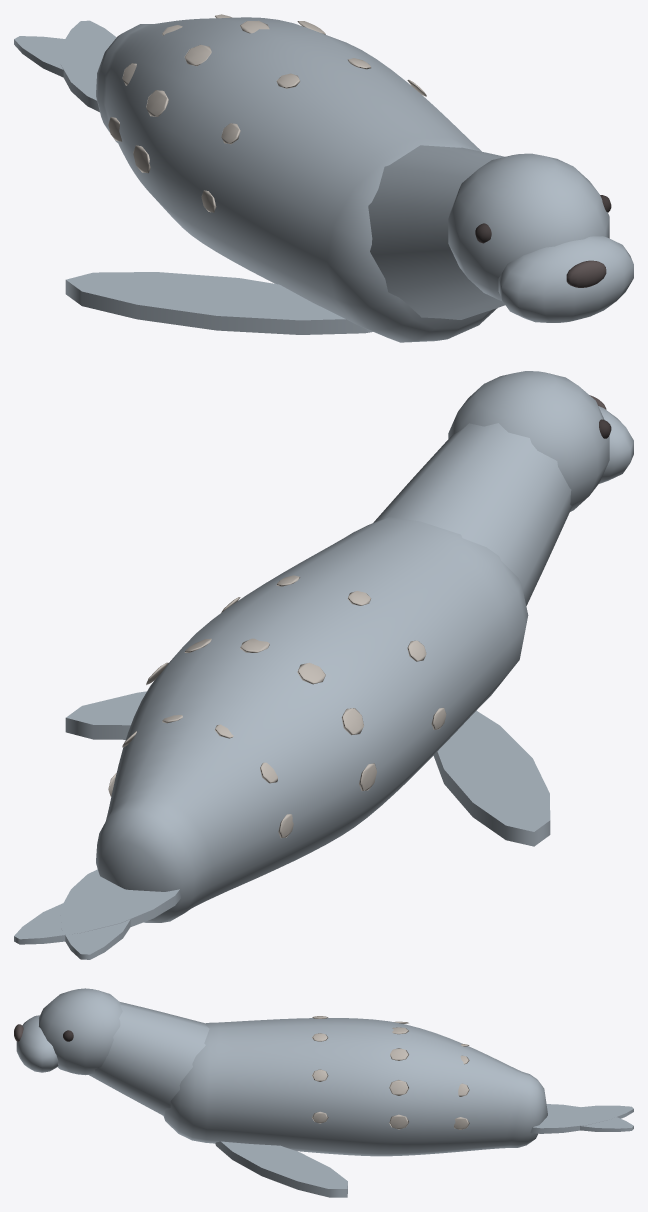
Rendered from polar-tundra-and-alpine-fauna-weddell-seal-b3b439e6__6073.glb.
3 renders of one model, top to bottom at view 1: azimuth 30°, elevation 25°; view 2: azimuth 150°, elevation 25°; view 3: azimuth 270°, elevation 25°, orthographic. The views are drawn at different scales.
Parts seen in each view (by area): view 1: weddell-seal; view 2: weddell-seal; view 3: weddell-seal.
Boxes of the visible parts, x1,y1,x2,y2 form: weddell-seal: (14,14,633,342); weddell-seal: (14,371,633,959); weddell-seal: (14,988,633,1197).
Bounding box in the file's own units: 1.3 × 0.7214 × 2.6.
